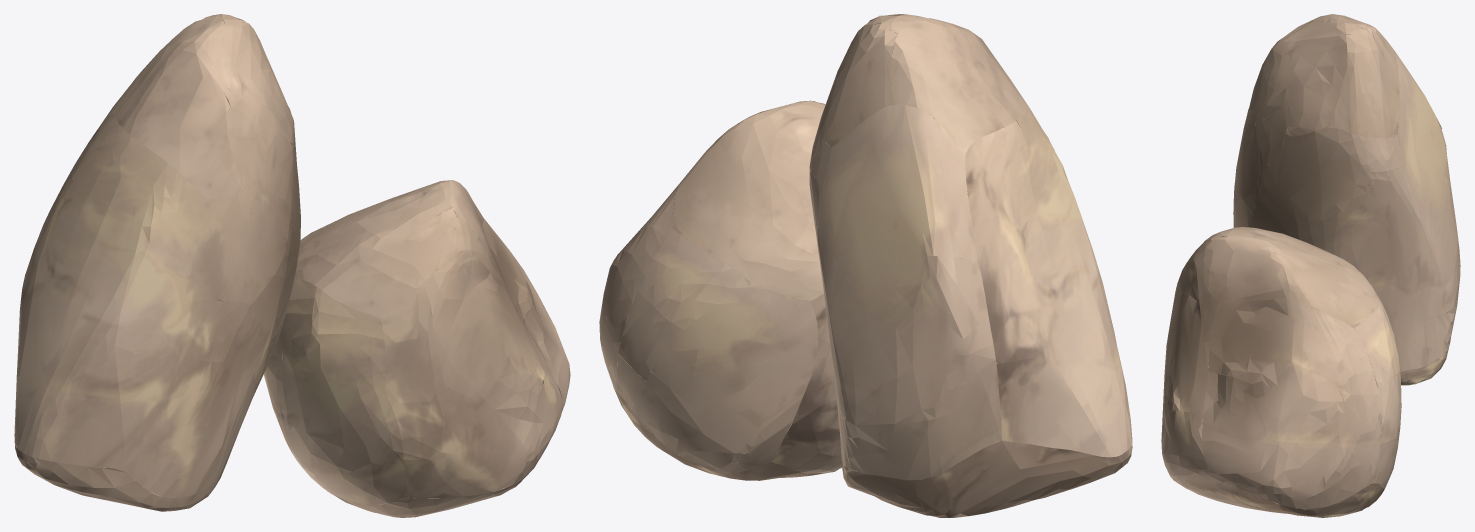
File: BigStone0Repo.fbx
3 renders of one model, left to right at view 1: azimuth 30°, elevation 25°; view 2: azimuth 150°, elevation 25°; view 3: azimuth 270°, elevation 25°, orthographic. The views are drawn at different scales.
Visible parts, largest first — view 1: Big stone.004_Baked; view 2: Big stone.004_Baked; view 3: Big stone.004_Baked.
Boxes of the visible parts, <box> form: Big stone.004_Baked: <box>14,14,570,517</box>; Big stone.004_Baked: <box>599,14,1132,517</box>; Big stone.004_Baked: <box>1161,14,1460,517</box>.
Bounding box in the file's own units: 40.46 × 36.38 × 23.75.
